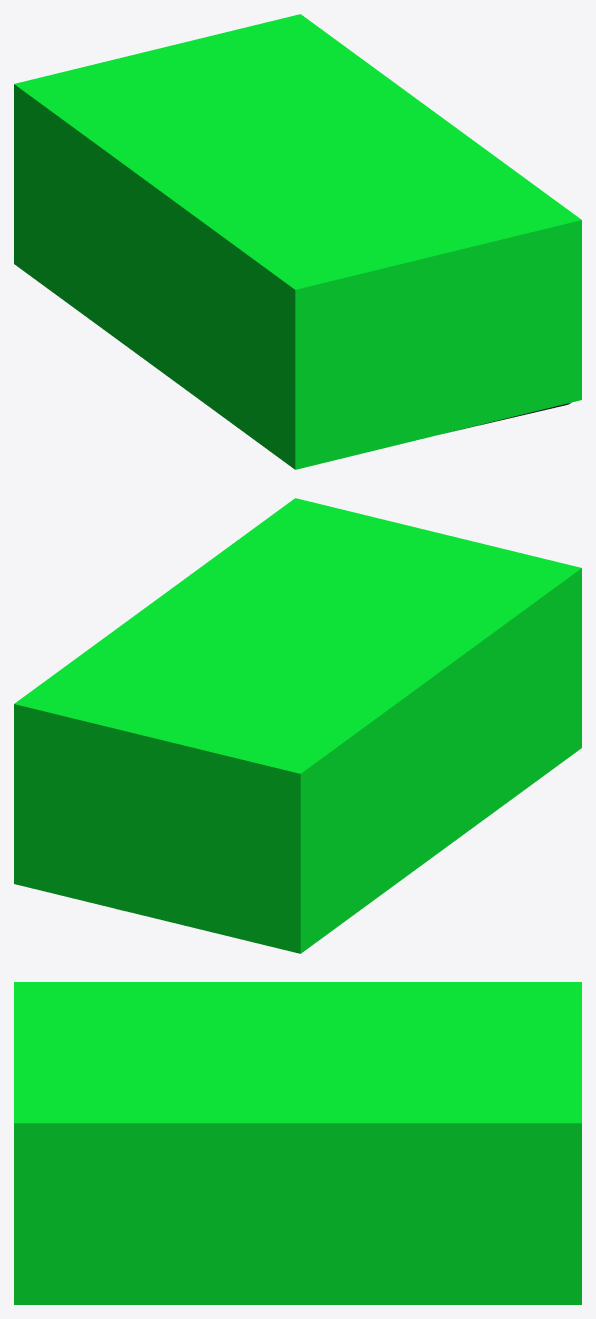
Rendered from 1x1x1_ActiveBuzzerModule.fbx.
3 views of the same model, one above another, from view 1: azimuth 30°, elevation 25°; view 2: azimuth 150°, elevation 25°; view 3: azimuth 270°, elevation 25° (orthographic).
Parts seen in each view (by area): view 1: Dimension; view 2: Dimension; view 3: Dimension.
Part boxes in pixels (x1,y1,x2,y2): Dimension: (14, 14, 581, 469); Dimension: (14, 498, 581, 953); Dimension: (14, 982, 581, 1304).
Size of the model in its own units: 58.82 by 35.58 by 100.
6 materials, 1 textured.
